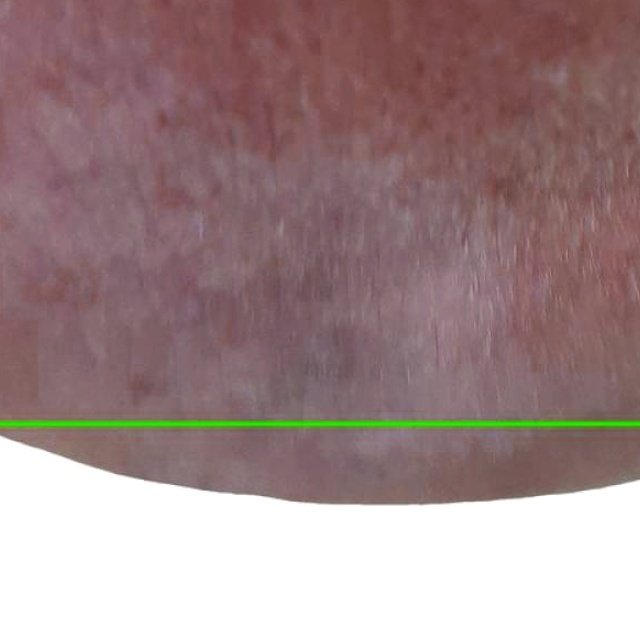Tinea Corporis: (0, 423, 639, 639)
